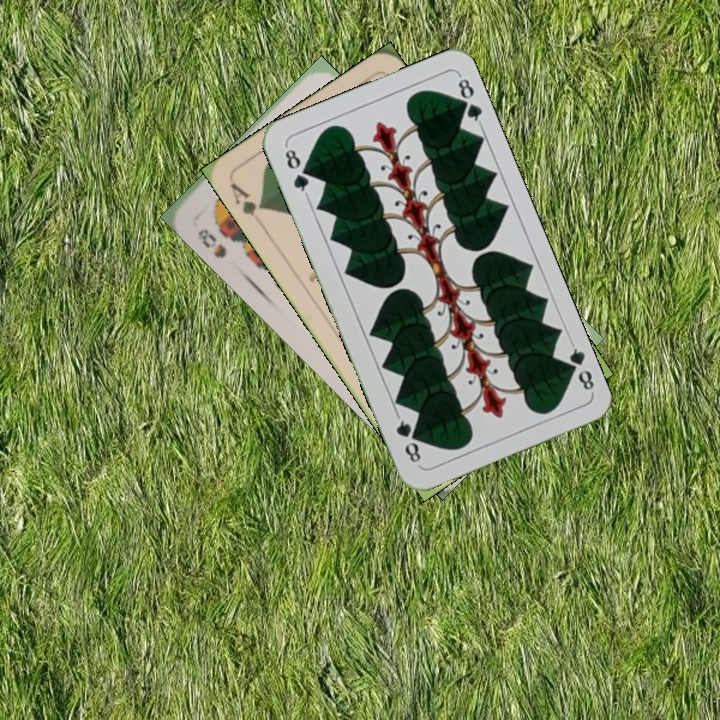G8: (560, 338, 597, 393), (281, 142, 312, 199)
GA: (226, 178, 267, 219)
S8: (193, 224, 229, 261)
